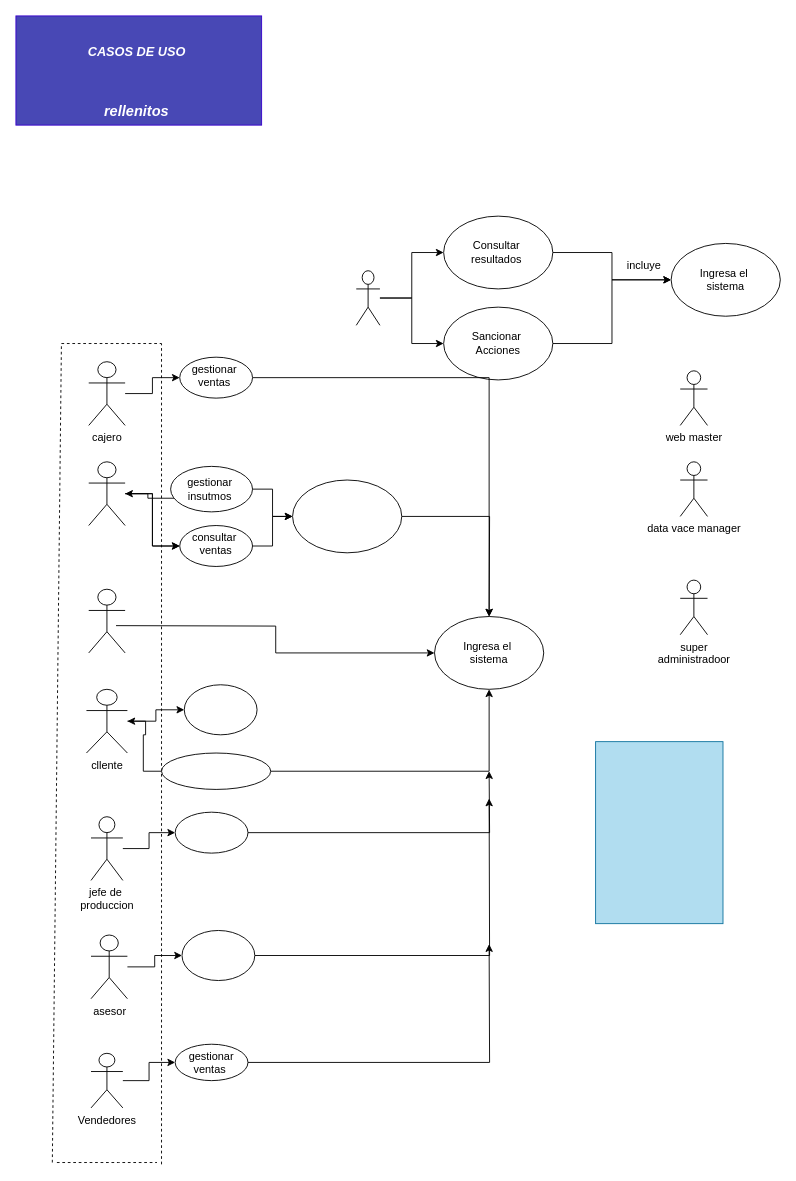
Image size: 796x1181. Some labels were removed from this diagram. The box of each missing label's shape, as (x1, y1, x2, y2) in pixels:
:D: (355, 270, 380, 325)
Administrador: (88, 588, 125, 653)
Cajero: Gerente: Administrador: Organizador: Asesor: Clientes: Vendedores:: (595, 741, 723, 924)
comprar productros: (183, 684, 257, 735)
consultar productos disponibles: (161, 752, 271, 789)
generar hordenes de produccion: (292, 479, 402, 553)
Gerente: (88, 461, 125, 526)
gestionar pedidos: (174, 811, 248, 853)
mantiene el ritmo en el negocio: (181, 930, 255, 981)
